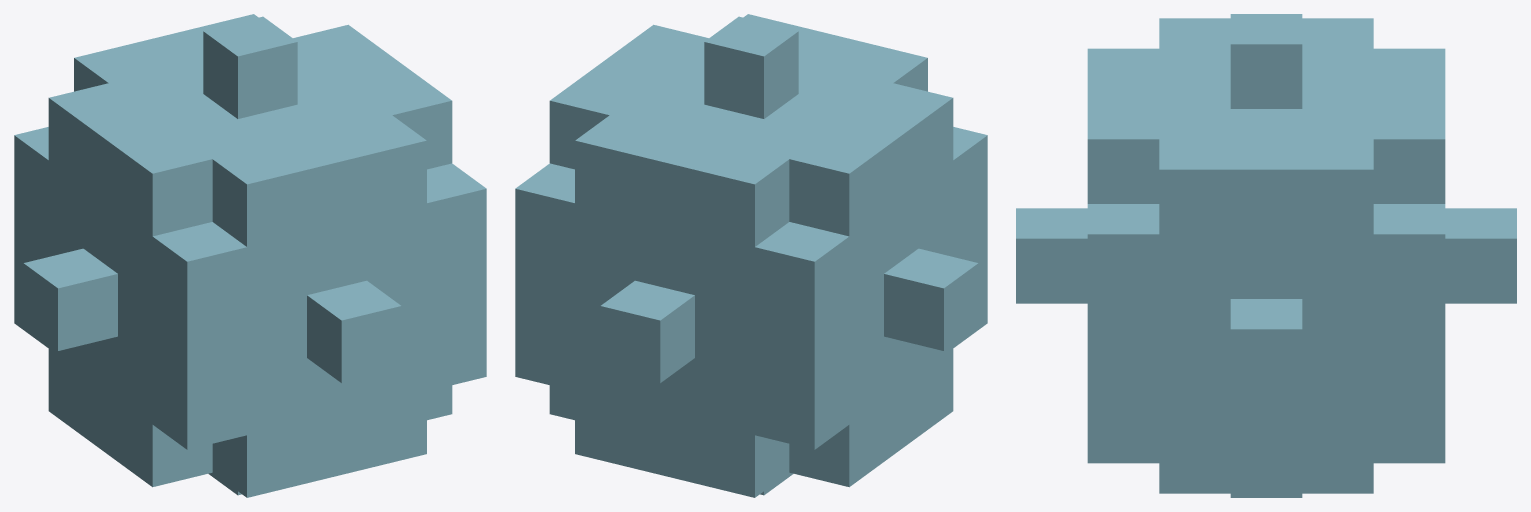
Rendered from vox_orb_glass.glb.
The picture shows the model from 3 angles, left to right: view 1: azimuth 30°, elevation 25°; view 2: azimuth 150°, elevation 25°; view 3: azimuth 270°, elevation 25°; orthographic projection. The views are drawn at different scales.
Parts seen in each view (by area): view 1: vox_orb_glass; view 2: vox_orb_glass; view 3: vox_orb_glass.
Part boxes in pixels (<box>): vox_orb_glass: <box>14,14,486,497</box>; vox_orb_glass: <box>515,14,987,497</box>; vox_orb_glass: <box>1016,14,1516,497</box>.
Size of the model in its own units: 0.14 by 0.14 by 0.14.
